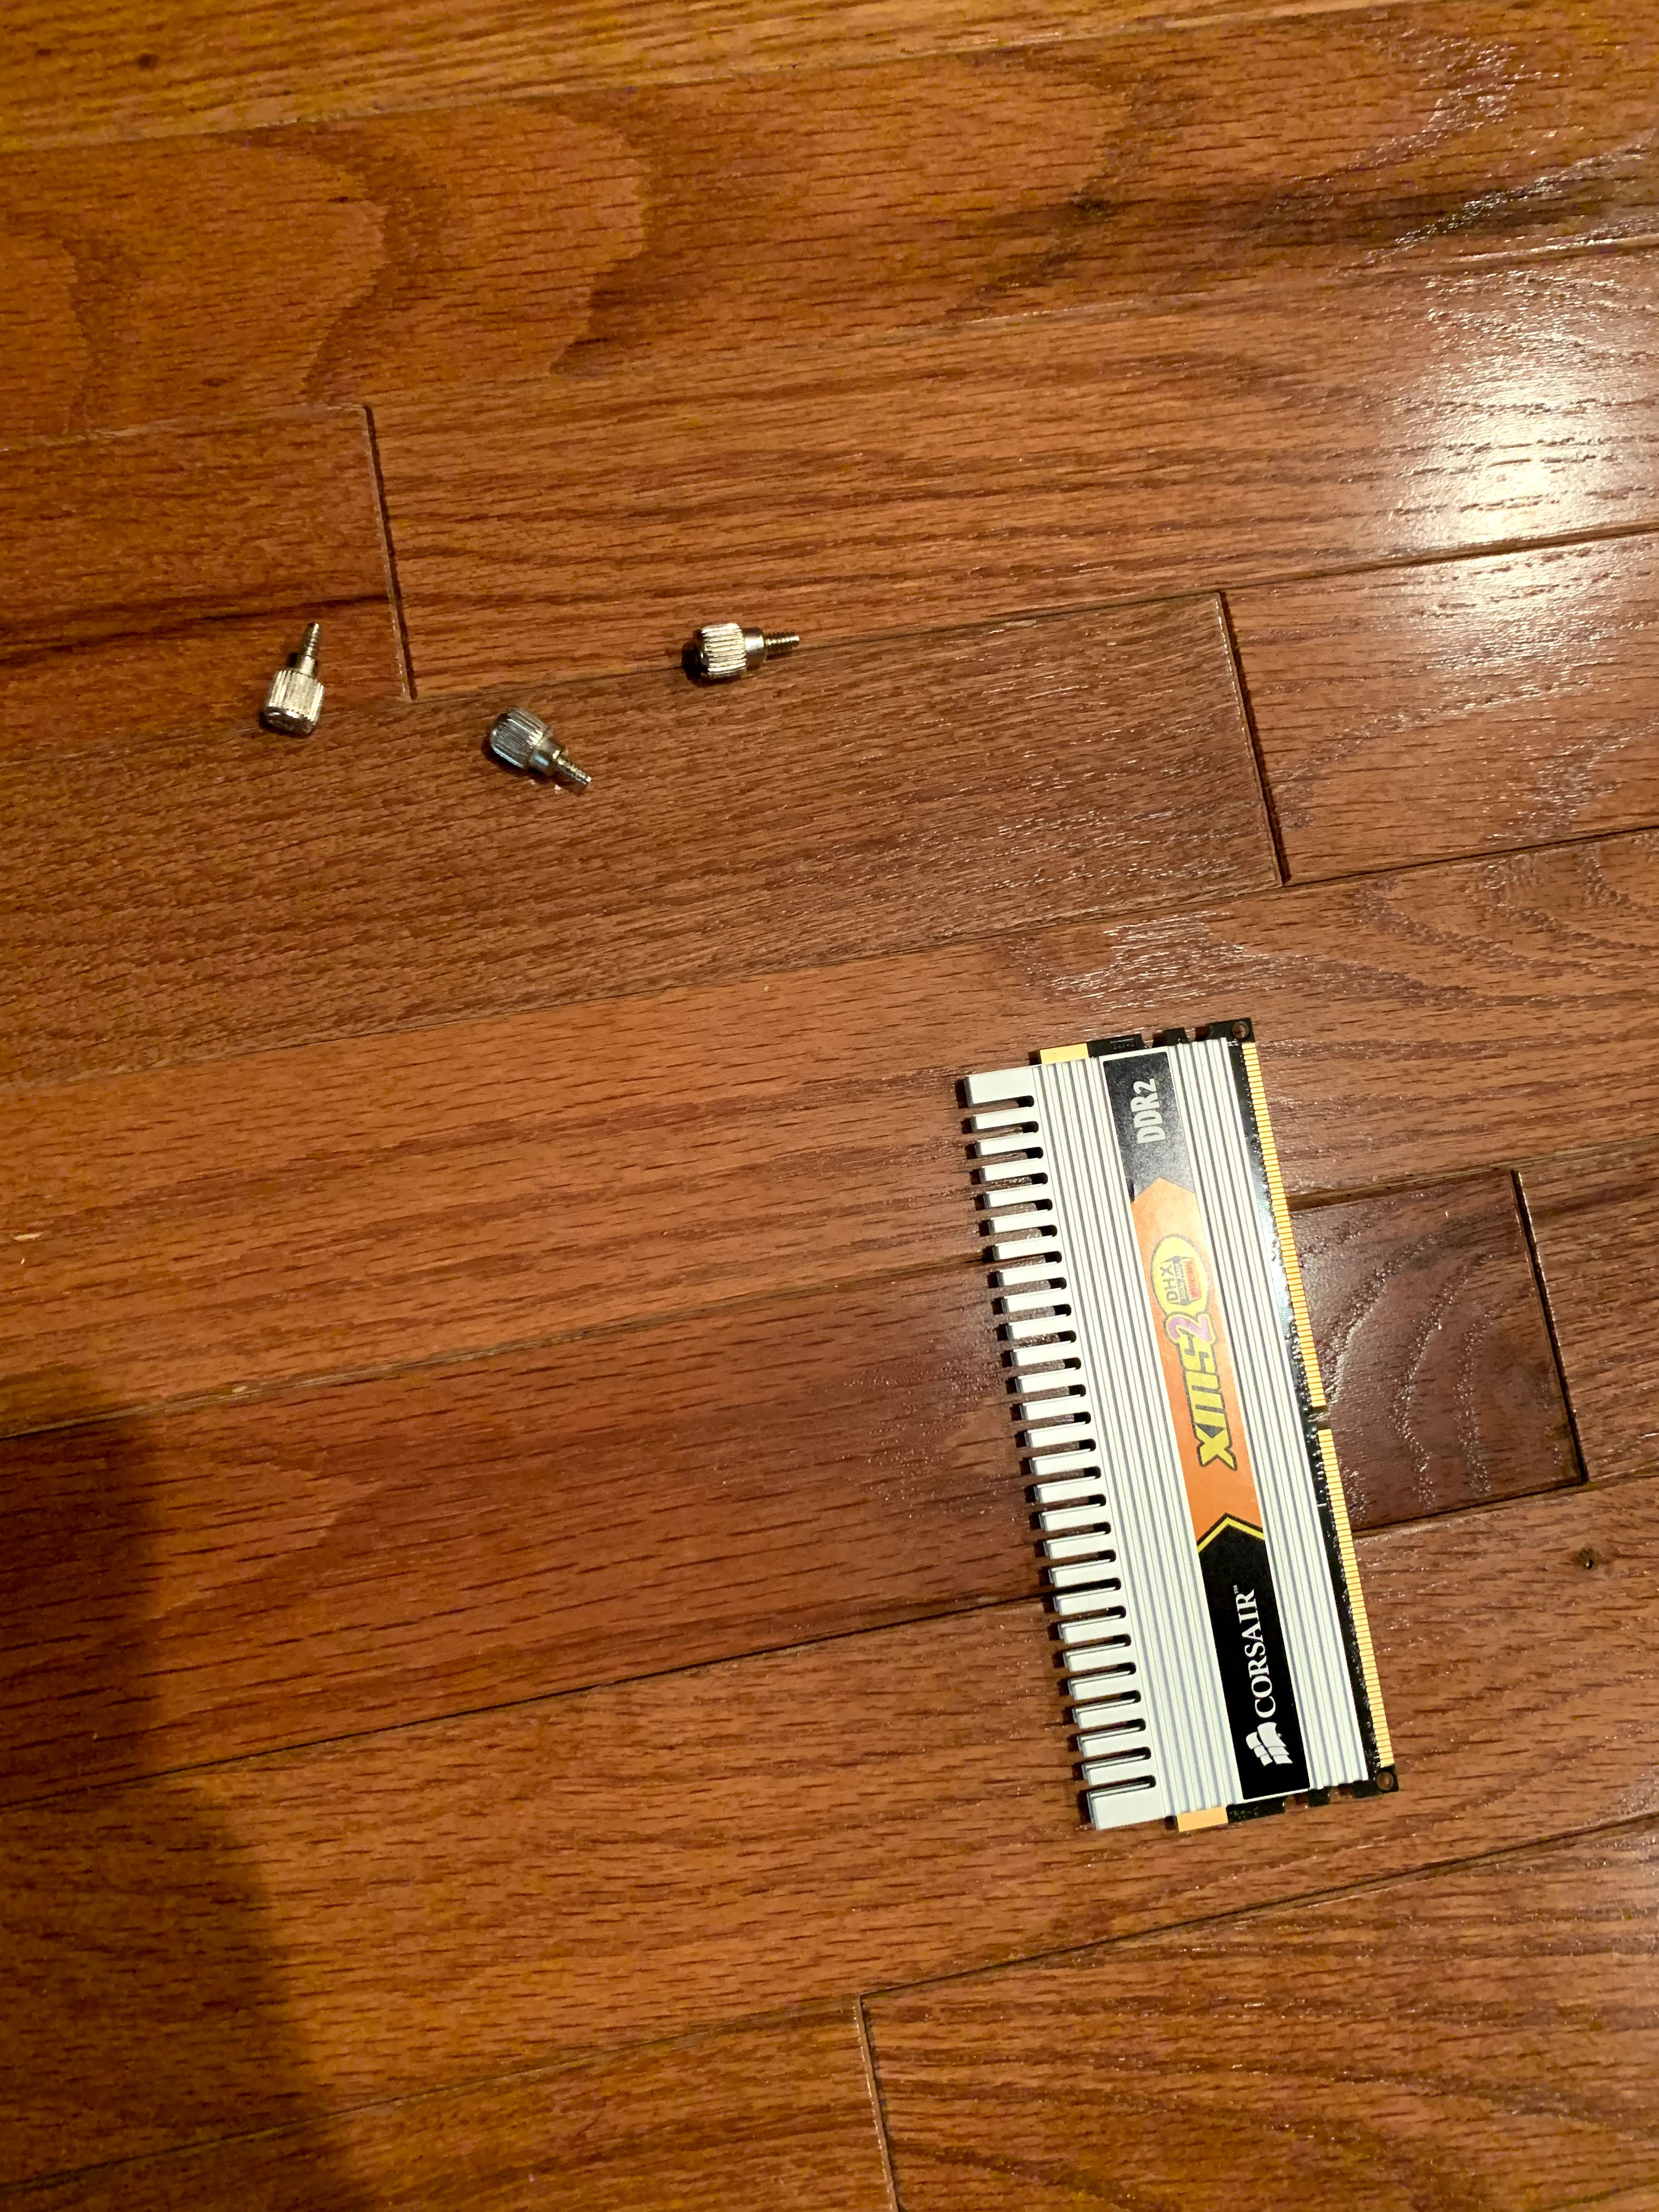Space-debris-medium: (948, 1012, 1415, 1838)
Space-debris-small: (256, 615, 336, 745), (483, 704, 599, 792), (687, 617, 805, 681)
